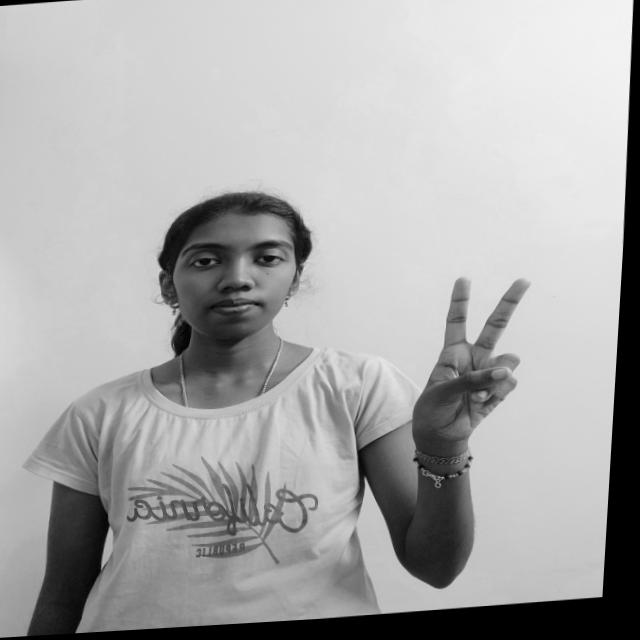Victory: (403, 270, 546, 460)
